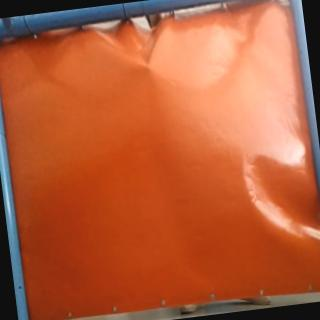Hit-hRxx: (140, 58, 158, 74)
